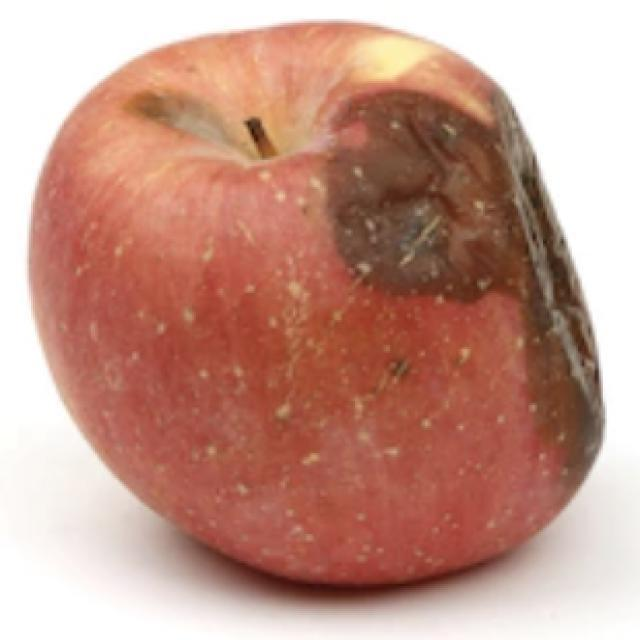Rotten: (32, 22, 606, 586)
